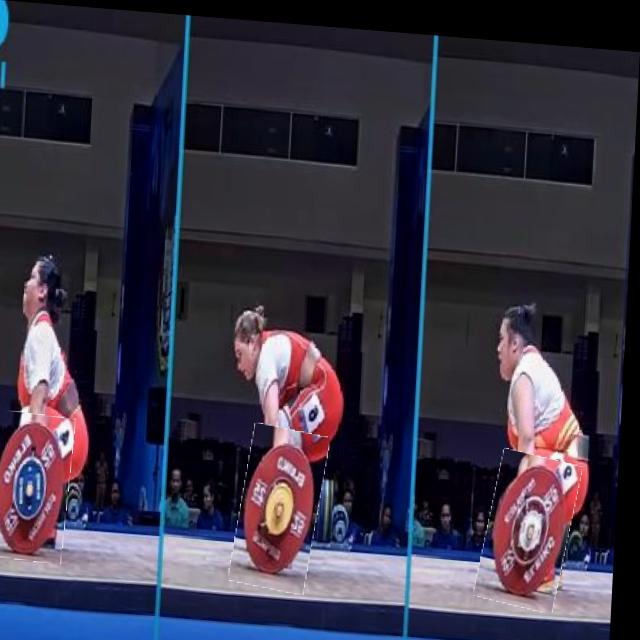barbell: (486, 441, 583, 603), (240, 420, 331, 589), (1, 411, 79, 564)
